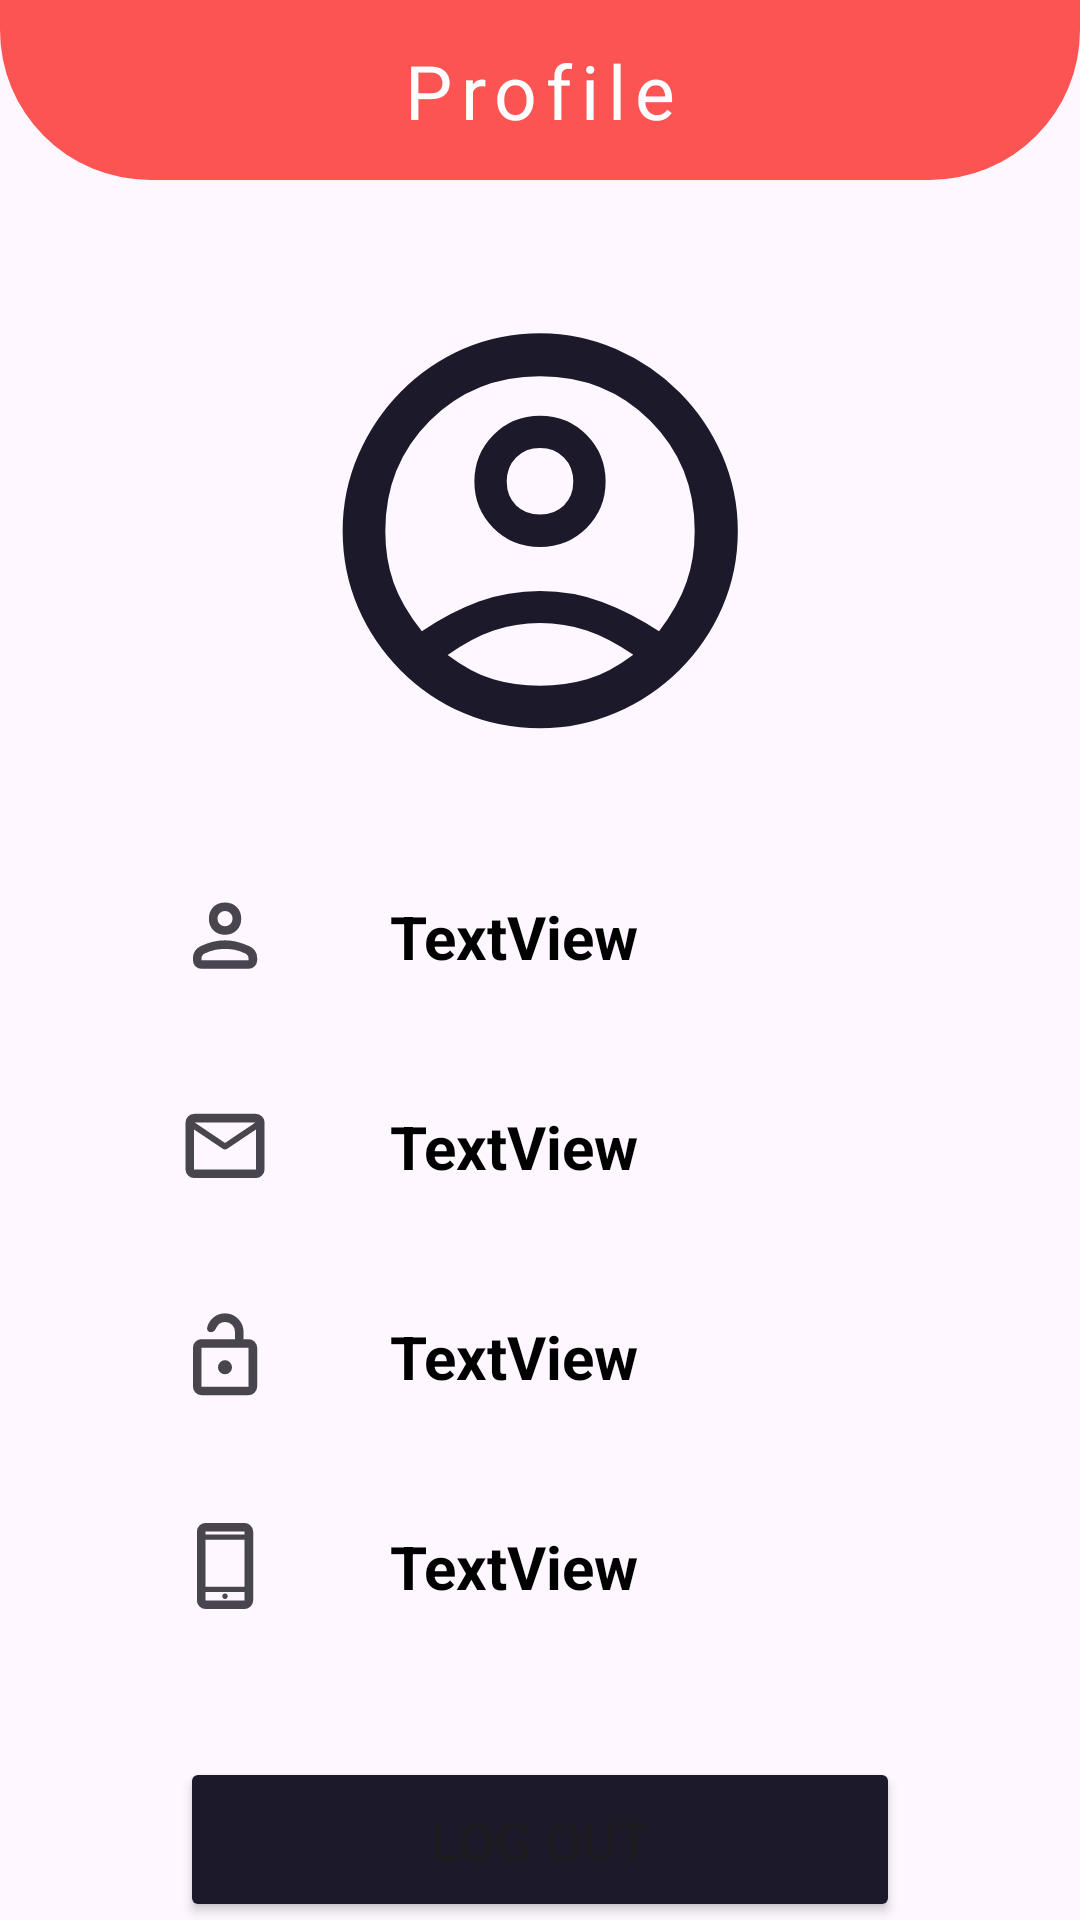

Named icons in this screenshot (1080*1920) and their centers, [x,y]:
lock open: [225,1354]
mail: [225,1145]
person: [225,935]
phone: [225,1566]
